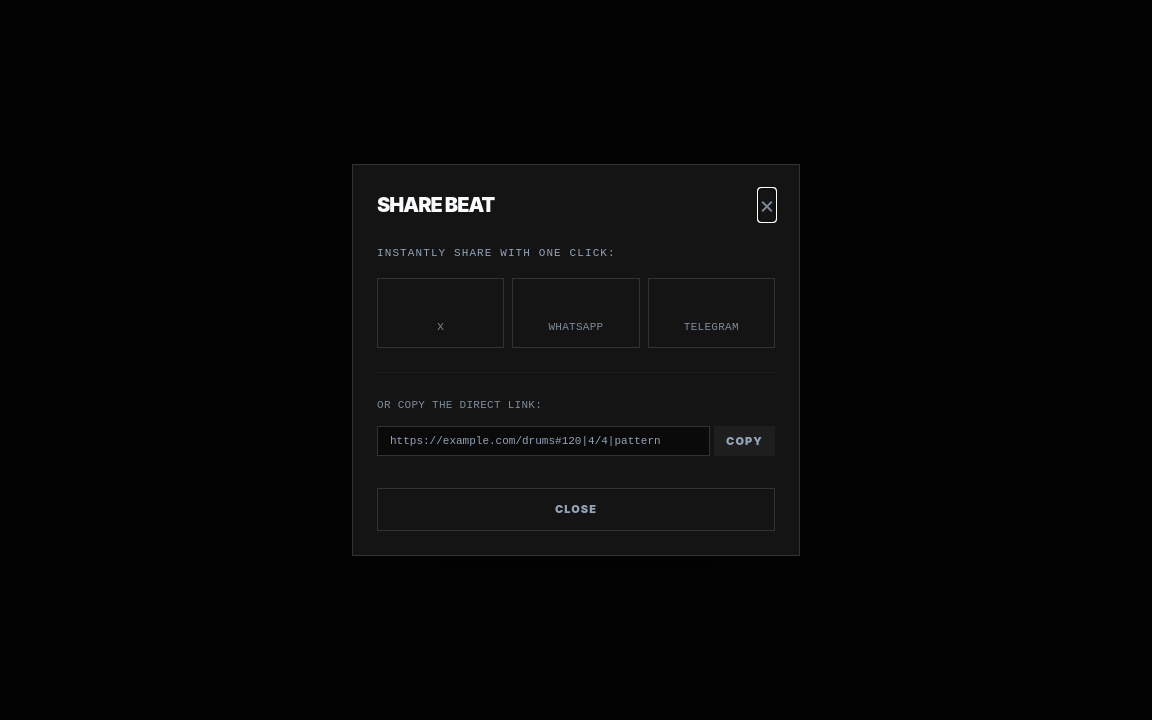
ShareModal › shows a fallback hint when the clipboard write rejects
Click the button "Copy": click(745, 441) [714,426,775,456]
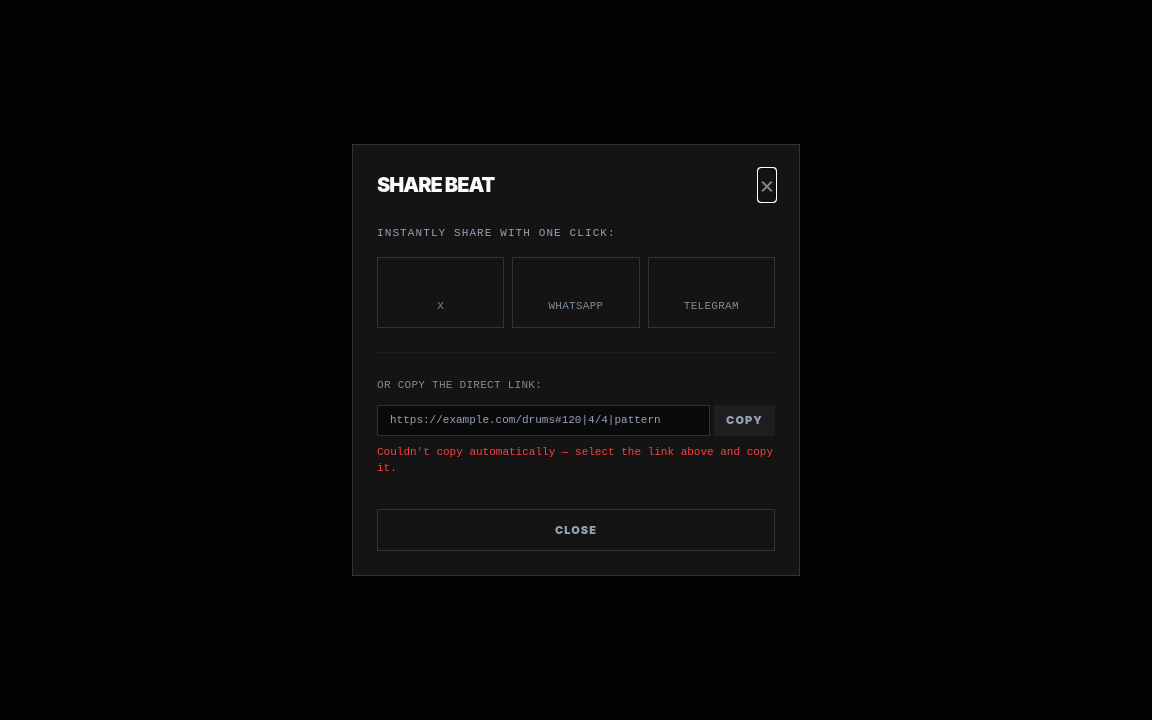
Expected: the text "select the link above" is shown, [377,446,773,474]
